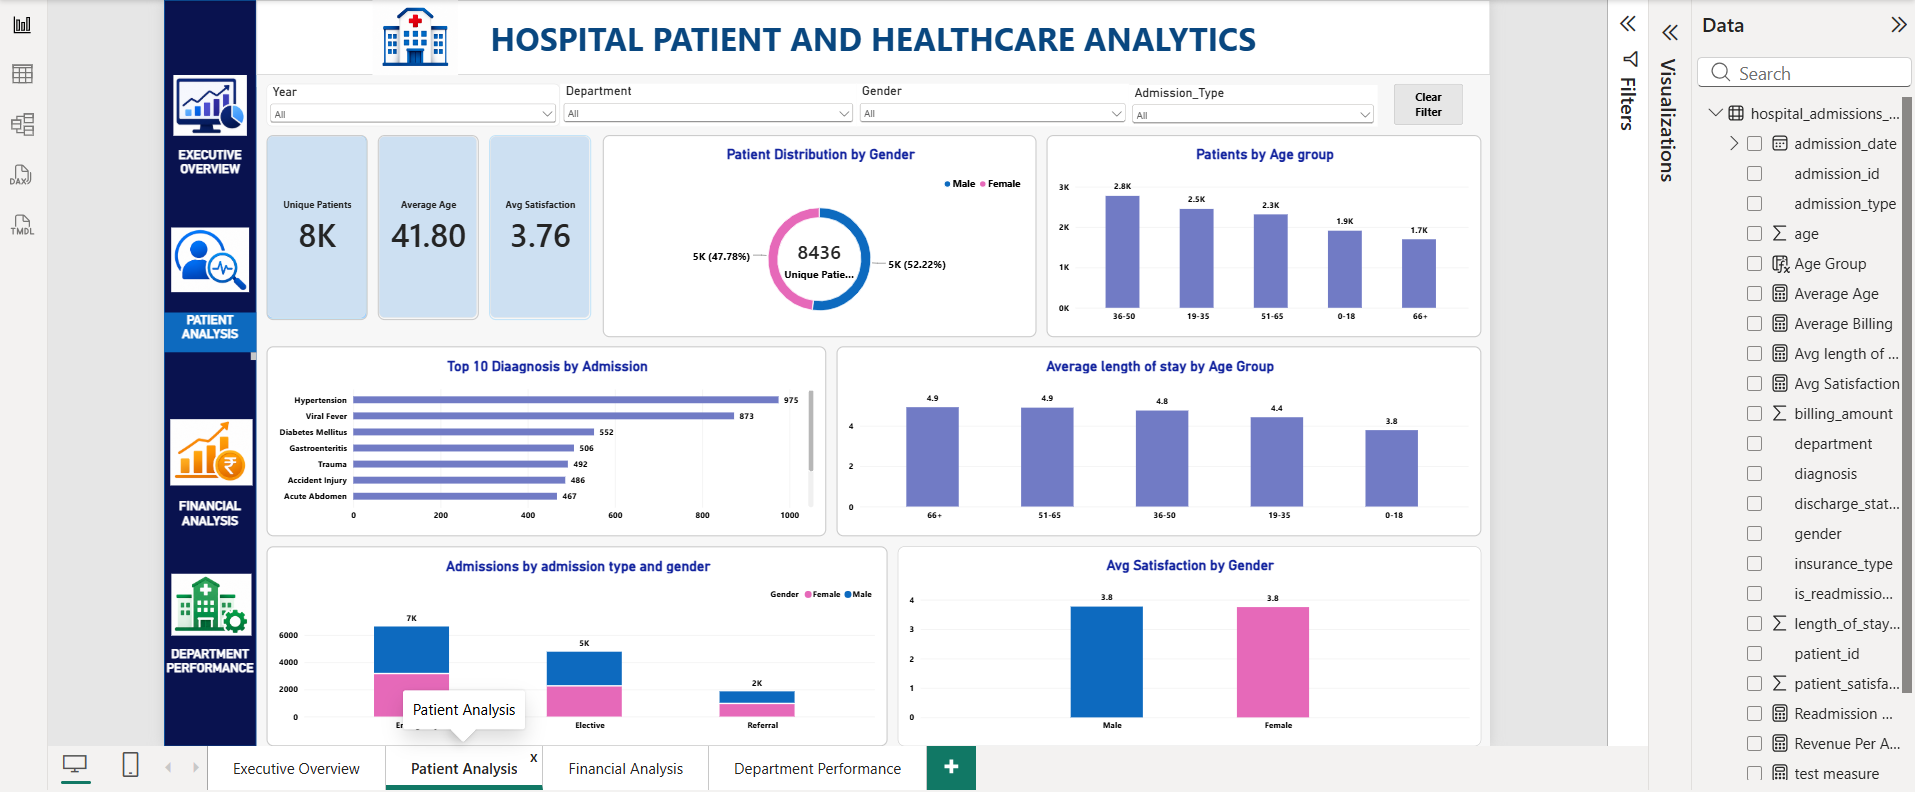

The dashboard page shown, as its layout file describes it:
{"tool":"powerbi","page":{"name":"Patient Analysis","canvas":[1920,1080],"ordinal":1},"visuals":[{"type":"shape","box":[0,0,133.8,1080.6],"z":0},{"type":"shape","box":[133.9,0,1786.1,108.6],"z":1000},{"type":"slicer","fields":{"Values":["hospital_admissions_data.admission_date.Variation.Date Hierarchy.Year"]},"box":[148.1,121.2,425,61.5],"z":2000},{"type":"slicer","fields":{"Values":["hospital_admissions_data.department"]},"box":[573.1,121.2,428.8,61.5],"z":3000},{"type":"slicer","fields":{"Values":["hospital_admissions_data.gender"]},"box":[1001.9,121.2,394.2,61.5],"z":4000},{"type":"slicer","fields":{"Values":["hospital_admissions_data.admission_type"]},"box":[1396.2,123.1,359.6,59.6],"z":5000},{"type":"cardVisual","fields":{"Data":["hospital_admissions_data.Unique Patients"]},"box":[148.4,195.4,146.6,267.8],"z":6000},{"type":"cardVisual","fields":{"Data":["hospital_admissions_data.Average Age"]},"box":[309.5,195.4,146.6,267.8],"z":7000},{"type":"cardVisual","fields":{"Data":["hospital_admissions_data.Avg Satisfaction"]},"box":[470.5,195.4,148.4,267.8],"z":8000},{"type":"donutChart","title":"Patient Distribution by Gender","fields":{"Category":["hospital_admissions_data.gender"],"Y":["hospital_admissions_data.Unique Patients"]},"box":[635.2,195.4,628,293.2],"z":9000},{"type":"clusteredColumnChart","title":"Patients by  Age group","fields":{"Category":["hospital_admissions_data.Age Group"],"Y":["hospital_admissions_data.Unique Patients"]},"box":[1277.6,195.4,629.8,293.2],"z":10000},{"type":"clusteredBarChart","title":"Top 10 Diaagnosis by Admission","fields":{"Category":["hospital_admissions_data.diagnosis"],"Y":["hospital_admissions_data.Total Admission"]},"box":[148.4,501.3,810.7,275.1],"z":11000},{"type":"clusteredColumnChart","title":"Average length of stay by Age Group","fields":{"Y":["hospital_admissions_data.Avg length of stay"],"Category":["hospital_admissions_data.Age Group"]},"box":[973.6,501.3,933.8,275.1],"z":12000},{"type":"columnChart","title":" Admissions by admission type and gender","fields":{"Category":["hospital_admissions_data.admission_type"],"Y":["hospital_admissions_data.Total Admission"],"Series":["hospital_admissions_data.gender"]},"box":[148.4,790.8,899.4,289.5],"z":13000},{"type":"clusteredColumnChart","title":"Avg Satisfaction by Gender","fields":{"Category":["hospital_admissions_data.gender"],"Y":["hospital_admissions_data.Avg Satisfaction"]},"box":[1062.3,790.8,845.1,289.5],"z":14000},{"type":"actionButton","box":[1780.8,121.2,100,59.6],"z":15000},{"type":"image","box":[257,0,213.5,108.6],"z":16000},{"type":"textbox","title":"EXECUTIVE OVERVIEW","box":[0,212.9,133.6,56.3],"z":17000},{"type":"textbox","title":"PATIENT ANALYSIS","box":[0,452.9,133.6,68.9],"z":18000},{"type":"textbox","title":"FINANCIAL ANALYSIS","box":[0,722.1,133.6,54.3],"z":19000},{"type":"textbox","title":"DEPARTMENT PERFORMANCE","box":[0,935,133.6,87.7],"z":20000},{"type":"image","box":[0,108.5,133.6,87.7],"z":21000},{"type":"image","box":[0,329.7,133.6,93.9],"z":22000},{"type":"image","box":[8.3,605.2,119,100.2],"z":23000},{"type":"image","box":[8.3,830.6,119,89.7],"z":24000}]}

Visuals, with their boxes on the page's 1920x1080 design canvas (x1, y1, x2, y2). These are canvas units, not pixel positions in the 1915x792 screenshot, which may show the page scaled, cropped or inside an application window:
shape: <bbox>0, 0, 134, 1081</bbox>
shape: <bbox>134, 0, 1920, 109</bbox>
slicer - hospital_admissions_data.admission_date.Variation.Date Hierarchy.Year: <bbox>148, 121, 573, 183</bbox>
slicer - hospital_admissions_data.department: <bbox>573, 121, 1002, 183</bbox>
slicer - hospital_admissions_data.gender: <bbox>1002, 121, 1396, 183</bbox>
slicer - hospital_admissions_data.admission_type: <bbox>1396, 123, 1756, 183</bbox>
cardVisual - hospital_admissions_data.Unique Patients: <bbox>148, 195, 295, 463</bbox>
cardVisual - hospital_admissions_data.Average Age: <bbox>310, 195, 456, 463</bbox>
cardVisual - hospital_admissions_data.Avg Satisfaction: <bbox>470, 195, 619, 463</bbox>
"Patient Distribution by Gender" donutChart: <bbox>635, 195, 1263, 489</bbox>
"Patients by  Age group" clusteredColumnChart: <bbox>1278, 195, 1907, 489</bbox>
"Top 10 Diaagnosis by Admission" clusteredBarChart: <bbox>148, 501, 959, 776</bbox>
"Average length of stay by Age Group" clusteredColumnChart: <bbox>974, 501, 1907, 776</bbox>
" Admissions by admission type and gender" columnChart: <bbox>148, 791, 1048, 1080</bbox>
"Avg Satisfaction by Gender" clusteredColumnChart: <bbox>1062, 791, 1907, 1080</bbox>
actionButton: <bbox>1781, 121, 1881, 181</bbox>
image: <bbox>257, 0, 470, 109</bbox>
"EXECUTIVE OVERVIEW" textbox: <bbox>0, 213, 134, 269</bbox>
"PATIENT ANALYSIS" textbox: <bbox>0, 453, 134, 522</bbox>
"FINANCIAL ANALYSIS" textbox: <bbox>0, 722, 134, 776</bbox>
"DEPARTMENT PERFORMANCE" textbox: <bbox>0, 935, 134, 1023</bbox>
image: <bbox>0, 108, 134, 196</bbox>
image: <bbox>0, 330, 134, 424</bbox>
image: <bbox>8, 605, 127, 705</bbox>
image: <bbox>8, 831, 127, 920</bbox>
